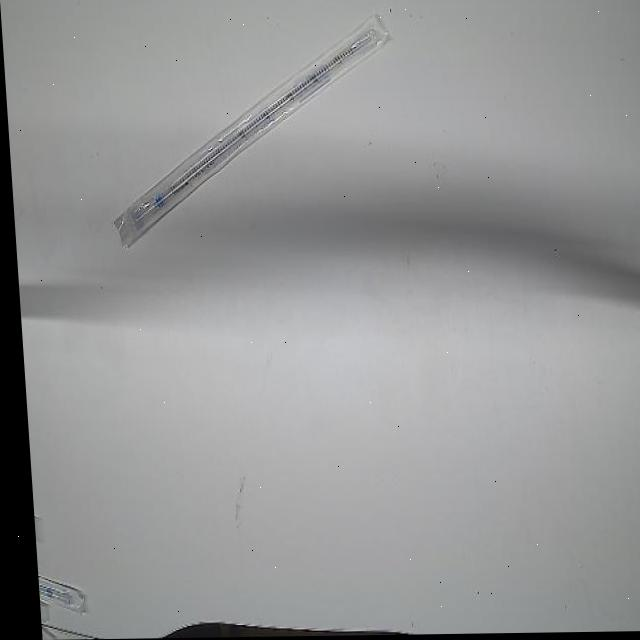Serelogical Pipet 5 mL - Sealed: (97, 8, 403, 257)
